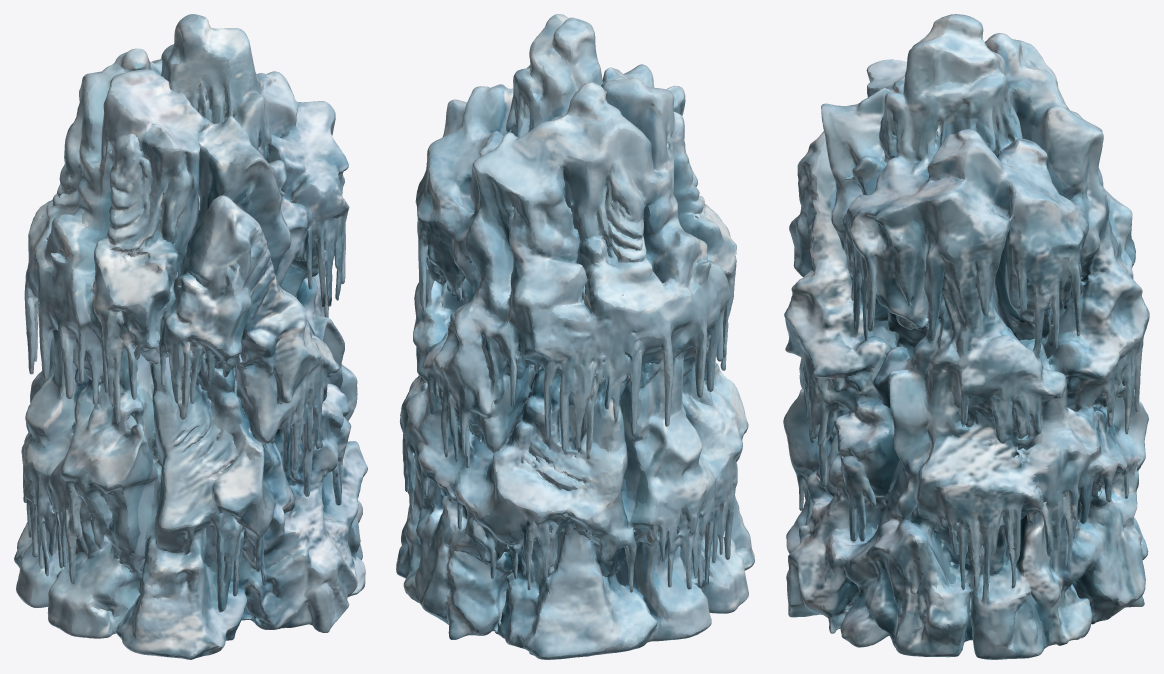
The model's file is serac-01.glb.
3 renders of one model, left to right at view 1: azimuth 30°, elevation 25°; view 2: azimuth 150°, elevation 25°; view 3: azimuth 270°, elevation 25°, orthographic. The views are drawn at different scales.
Visible parts, largest first — view 1: geometry_0; view 2: geometry_0; view 3: geometry_0.
Part boxes in pixels (x1,y1,x2,y2): geometry_0: (14,14,367,659); geometry_0: (396,14,754,659); geometry_0: (783,14,1149,659).
Bounding box in the file's own units: 0.343 × 0.6 × 0.3448.
Materials: 1 (1 with a texture image).
